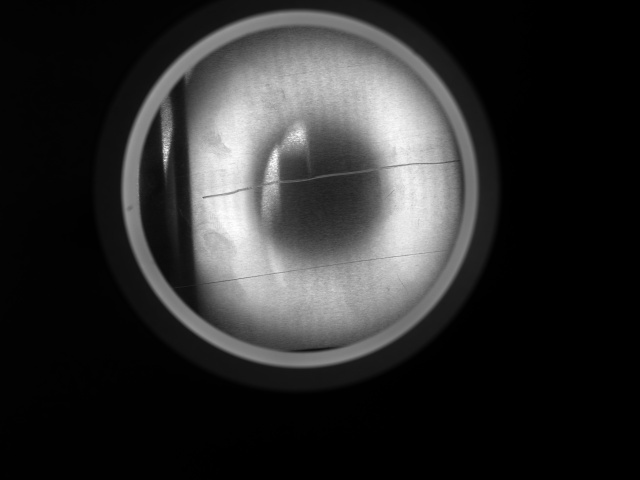ca_shang: (201, 158, 462, 197), (196, 247, 452, 284)
